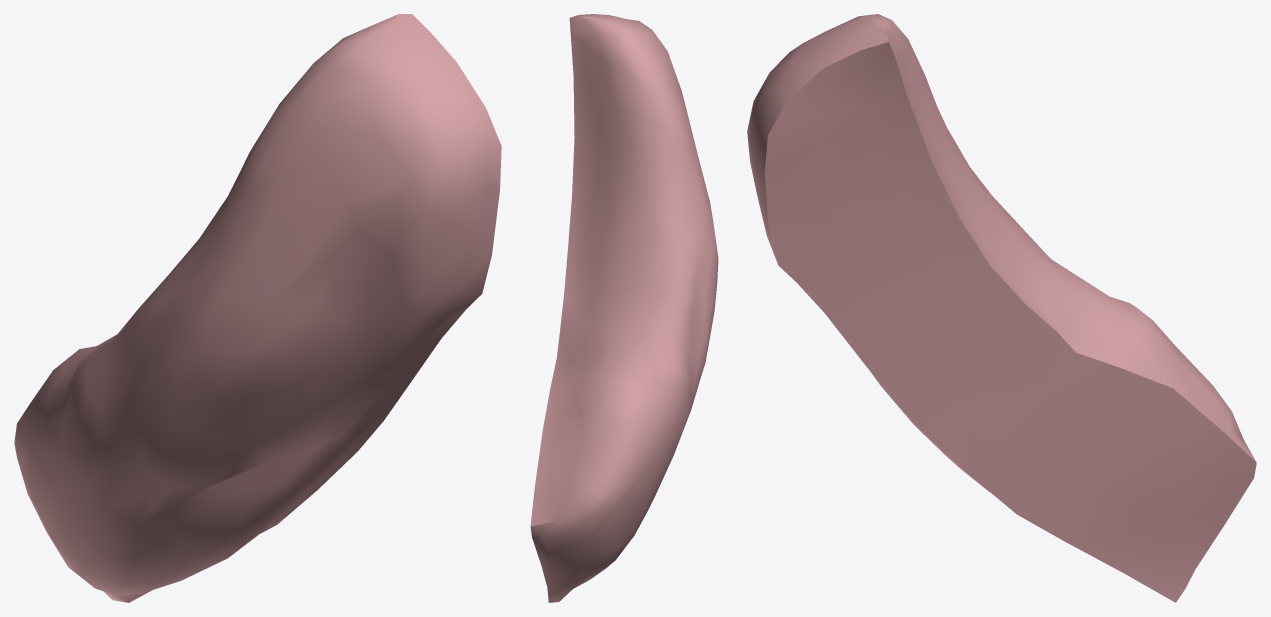
File: fma72724_mm236m.glb
The picture shows the model from 3 angles, left to right: view 1: azimuth 30°, elevation 25°; view 2: azimuth 150°, elevation 25°; view 3: azimuth 270°, elevation 25°; orthographic projection. The views are drawn at different scales.
Visible parts, largest first — view 1: FMA72724_MM236M; view 2: FMA72724_MM236M; view 3: FMA72724_MM236M.
Boxes of the visible parts, x1,y1,x2,y2 form: FMA72724_MM236M: [14, 14, 501, 602]; FMA72724_MM236M: [530, 14, 718, 602]; FMA72724_MM236M: [747, 14, 1256, 602].
Bounding box in the file's own units: 0.0131 × 0.0313 × 0.0232.
